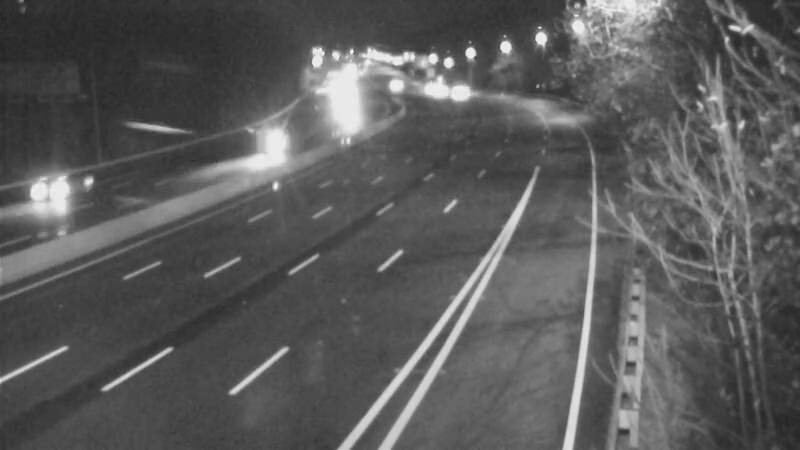vehicle: (19, 152, 99, 232), (368, 61, 418, 111), (401, 64, 451, 114), (416, 70, 466, 120), (434, 72, 484, 122), (245, 116, 295, 166), (322, 87, 372, 137)
